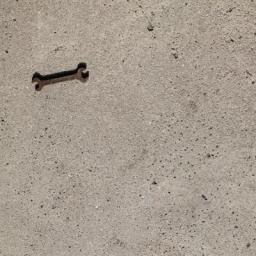FOD: (30, 62, 95, 96)
